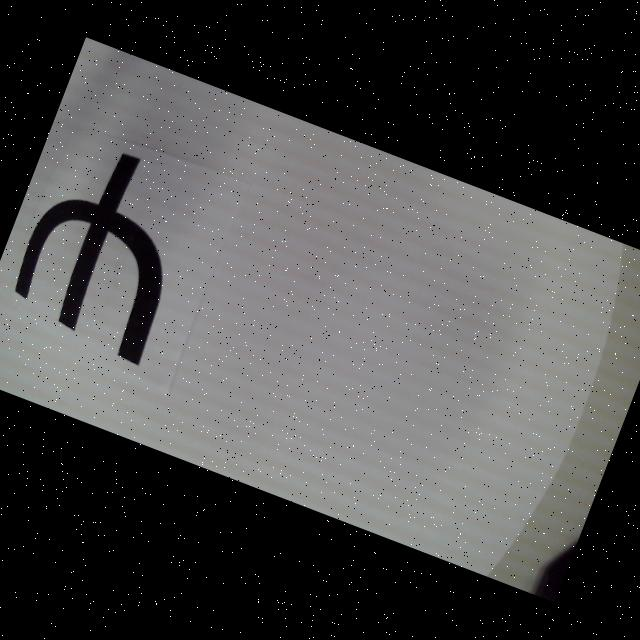PSI: (1, 132, 210, 367)
